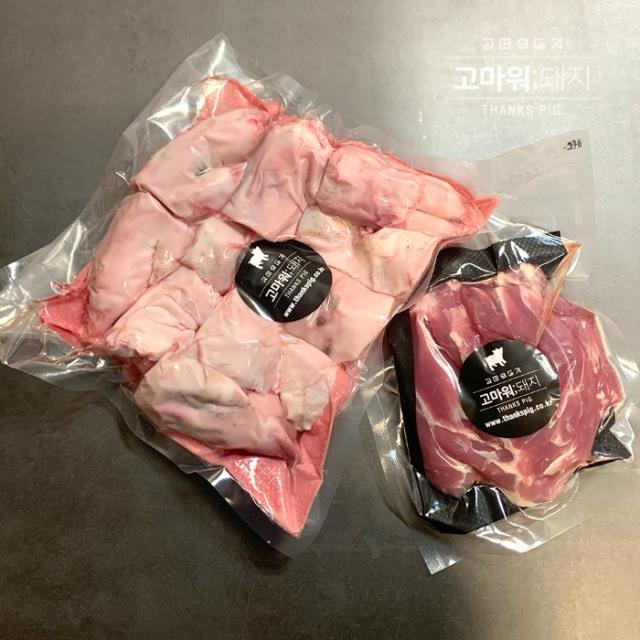pork: (18, 87, 625, 546)
